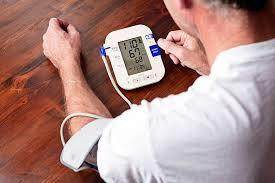BP monitor: (101, 23, 164, 107)
